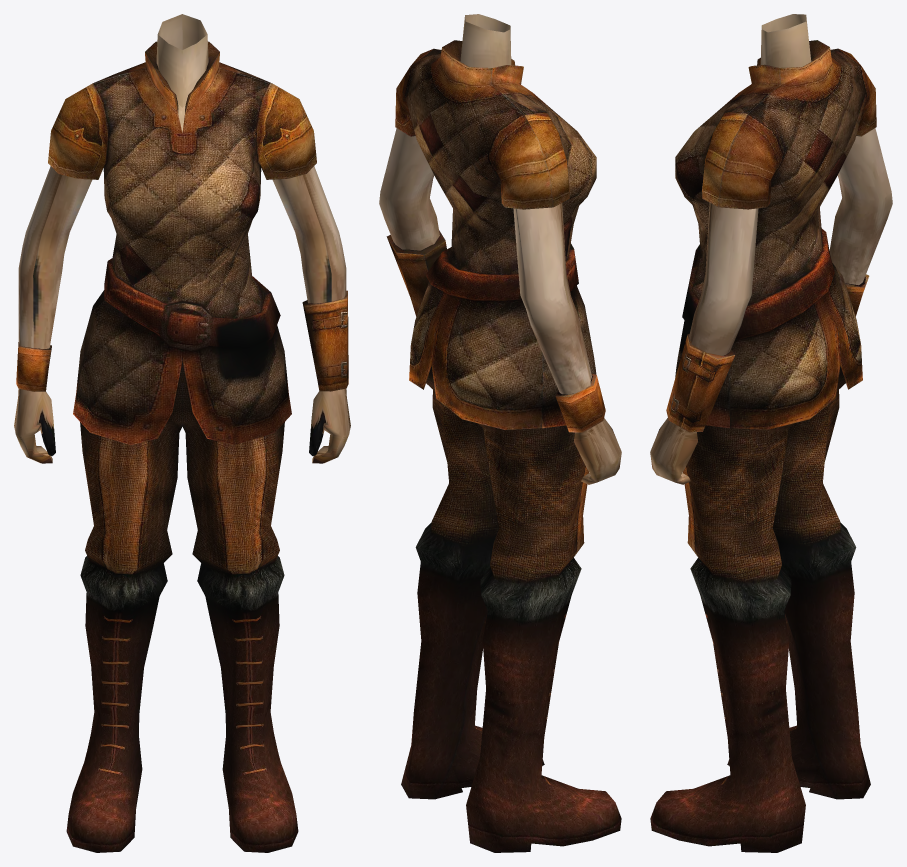
The model's file is LIGHTWOMANARMOR_GREY.glb.
3 views of the same model, side by side, from view 1: azimuth 30°, elevation 25°; view 2: azimuth 150°, elevation 25°; view 3: azimuth 270°, elevation 25° (orthographic).
Visible parts, largest first — view 1: LIGHTWOMANARMOR_GREY; view 2: LIGHTWOMANARMOR_GREY; view 3: LIGHTWOMANARMOR_GREY.
Boxes of the visible parts, <box> form: LIGHTWOMANARMOR_GREY: <box>14,14,350,852</box>; LIGHTWOMANARMOR_GREY: <box>379,14,621,852</box>; LIGHTWOMANARMOR_GREY: <box>650,14,892,852</box>.
Size of the model in its own units: 0.6226 by 1.67 by 0.4628.
2 materials, 2 textured.
